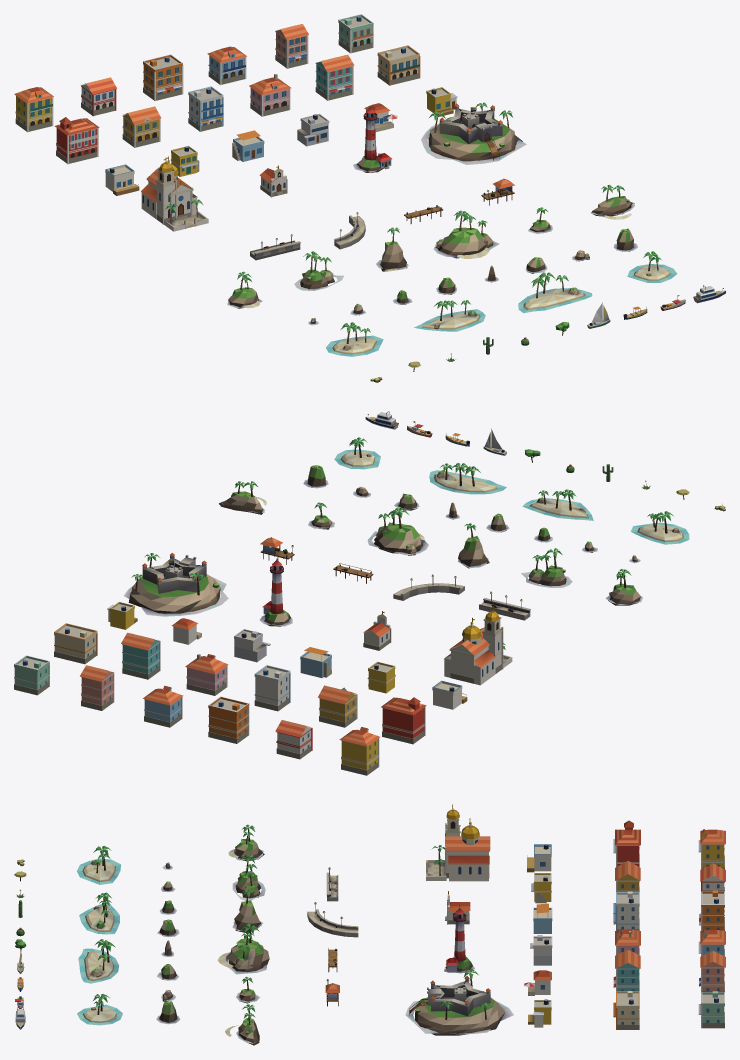
The model's file is caribe_kit.glb.
3 views of the same model, one above another, from view 1: azimuth 30°, elevation 25°; view 2: azimuth 150°, elevation 25°; view 3: azimuth 270°, elevation 25° (orthographic). The views are drawn at different scales.
Visible parts, largest first — view 1: fuerte_estrella, iglesia_car, casa_car_07, islote_04, casa_car_03, casa_car_11, casa_car_01, cayo_arena_03, casa_car_12, casa_car_09, casa_car_10, casa_car_08 (+20 smaller); view 2: fuerte_estrella, iglesia_car, casa_car_07, casa_car_03, islote_04, casa_car_01, casa_car_11, casa_car_12, cayo_arena_03, casa_car_09, casa_car_10, casa_car_08 (+21 smaller); view 3: fuerte_estrella, iglesia_car, islote_04, cayo_arena_03, cayo_arena_02, cayo_arena_01, casa_car_11, casa_car_07, casa_car_09, casa_car_05, casa_car_12, casa_car_03 (+20 smaller).
Part boxes in pixels (x1,y1,x2,y2): fuerte_estrella: (421,102,526,164); iglesia_car: (141,156,208,231); casa_car_07: (54,117,99,164); islote_04: (433,210,499,258); casa_car_03: (143,54,183,100); casa_car_11: (315,54,354,100); casa_car_01: (14,87,53,132); cayo_arena_03: (518,272,592,312); casa_car_12: (377,45,420,85); casa_car_09: (188,86,223,131); casa_car_10: (249,74,291,116); casa_car_08: (122,106,160,147); fuerte_estrella: (124,553,228,616); iglesia_car: (444,606,512,685); casa_car_07: (381,697,426,744); casa_car_03: (208,696,249,743); islote_04: (367,507,428,555); casa_car_01: (339,727,379,775); casa_car_11: (121,632,160,679); casa_car_12: (54,623,97,664); cayo_arena_03: (429,463,506,494); casa_car_09: (254,665,290,711); casa_car_10: (185,654,228,695); casa_car_08: (318,685,357,727); fuerte_estrella: (405,969,513,1035); iglesia_car: (426,804,490,881); islote_04: (217,923,269,974); cayo_arena_03: (78,939,119,983); cayo_arena_02: (79,892,119,934); cayo_arena_01: (77,846,121,884); casa_car_11: (613,949,640,990); casa_car_07: (613,820,640,866); casa_car_09: (613,891,639,930); casa_car_05: (699,951,725,993); casa_car_12: (613,991,639,1029); casa_car_03: (699,890,724,930).
Size of the model in its own units: 166 by 25.6 by 251.
